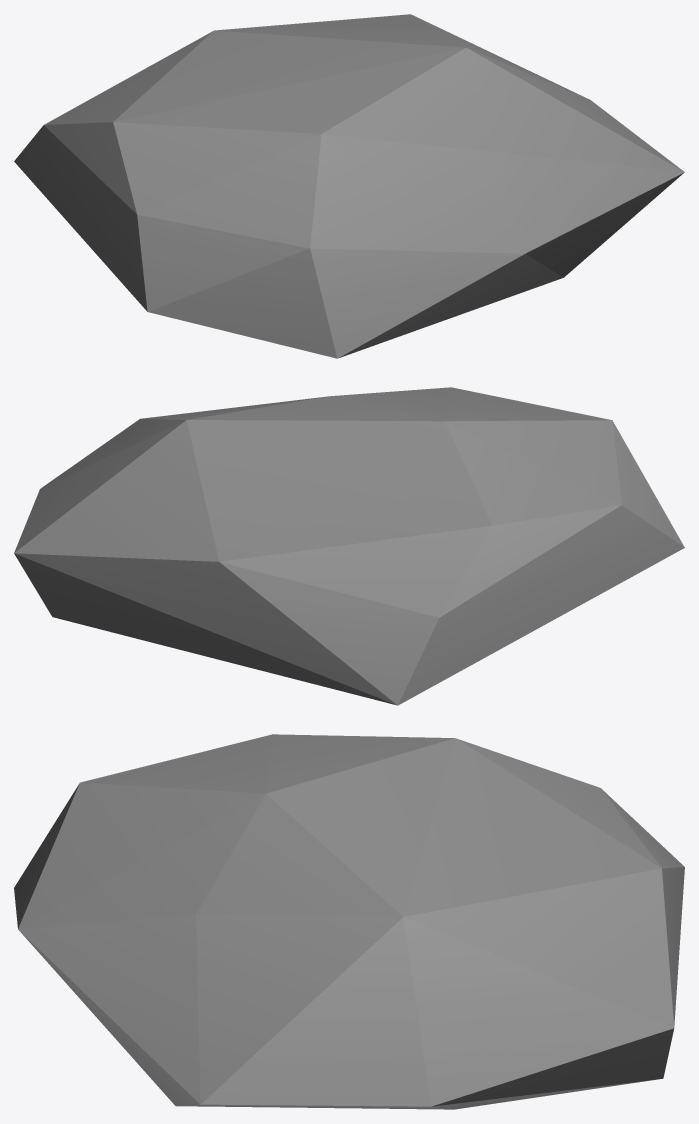
Rendered from rock_big_flat.fbx.
3 views of the same model, one above another, from view 1: azimuth 30°, elevation 25°; view 2: azimuth 150°, elevation 25°; view 3: azimuth 270°, elevation 25° (orthographic). The views are drawn at different scales.
Parts seen in each view (by area): view 1: rock_big_flat; view 2: rock_big_flat; view 3: rock_big_flat.
Part boxes in pixels (x1=…): rock_big_flat: x1=14, y1=14, x2=684, y2=358; rock_big_flat: x1=14, y1=387, x2=684, y2=705; rock_big_flat: x1=14, y1=734, x2=684, y2=1109.
Bounding box in the file's own units: 2 × 0.6 × 1.8.
1 material, 1 textured.
